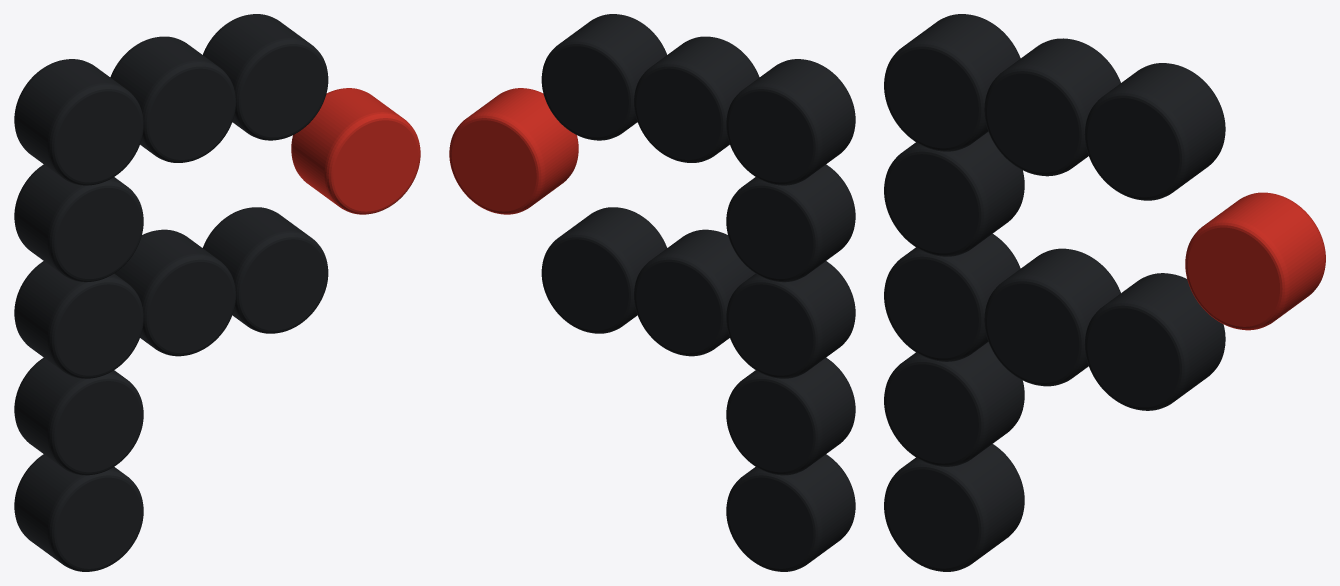
Rendered from mark.glb.
3 renders of one model, left to right at view 1: azimuth 30°, elevation 25°; view 2: azimuth 150°, elevation 25°; view 3: azimuth 330°, elevation 25°, orthographic. The views are drawn at different scales.
Bounding box in the file's own units: 3.02 × 3.77 × 0.5601.
